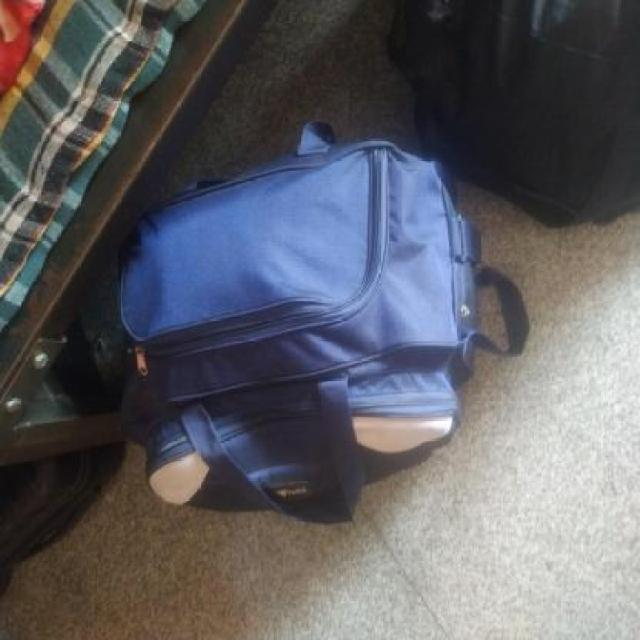backpack: (117, 137, 488, 529)
